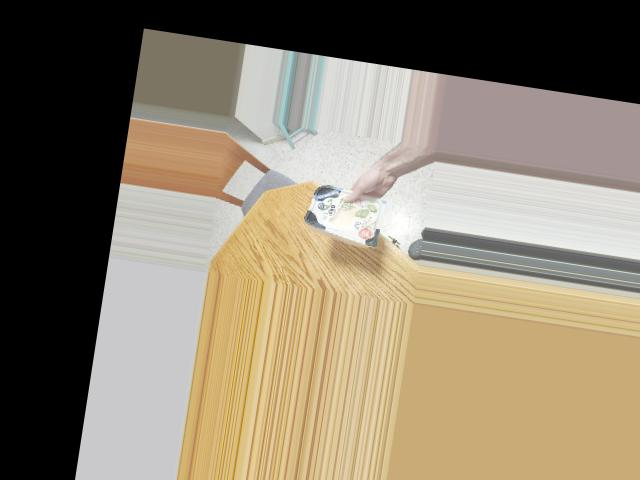cheese: (302, 168, 393, 253)
